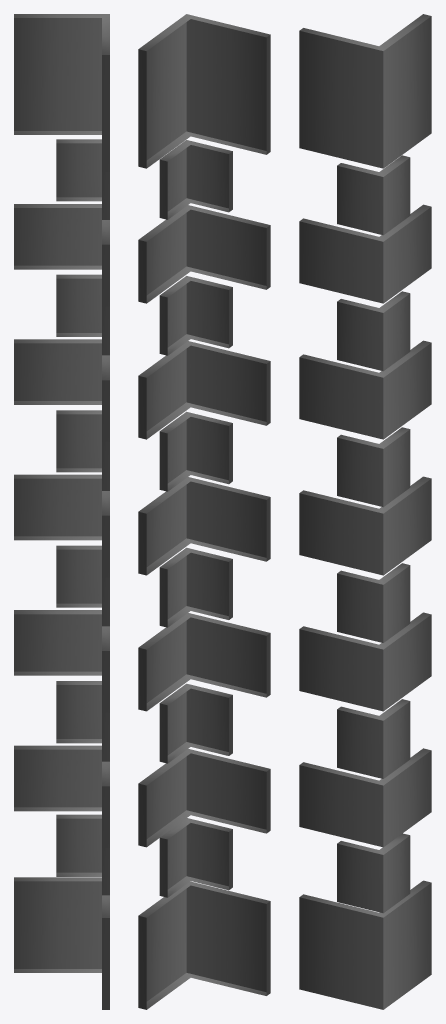
File: SM_Angles_stones.fbx
The picture shows the model from 3 angles, left to right: view 1: azimuth 90°, elevation 25°; view 2: azimuth 150°, elevation 25°; view 3: azimuth 330°, elevation 25°; orthographic projection.
Parts seen in each view (by area): view 1: pCube10; view 2: pCube10; view 3: pCube10.
Boxes of the visible parts, box(x1,y1,x2,y2) form: pCube10: box(14, 14, 109, 1009); pCube10: box(138, 14, 270, 1009); pCube10: box(299, 14, 431, 1009).
Size of the model in its own units: 91.47 by 997 by 90.64.
